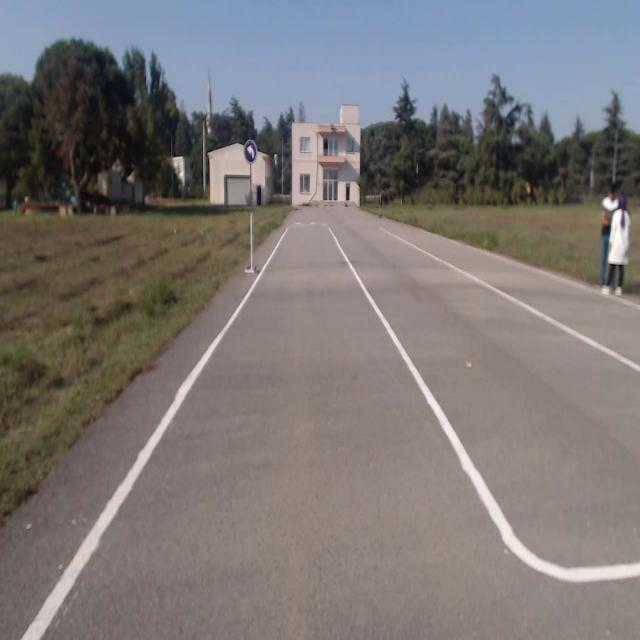sol: (243, 140, 257, 162)
